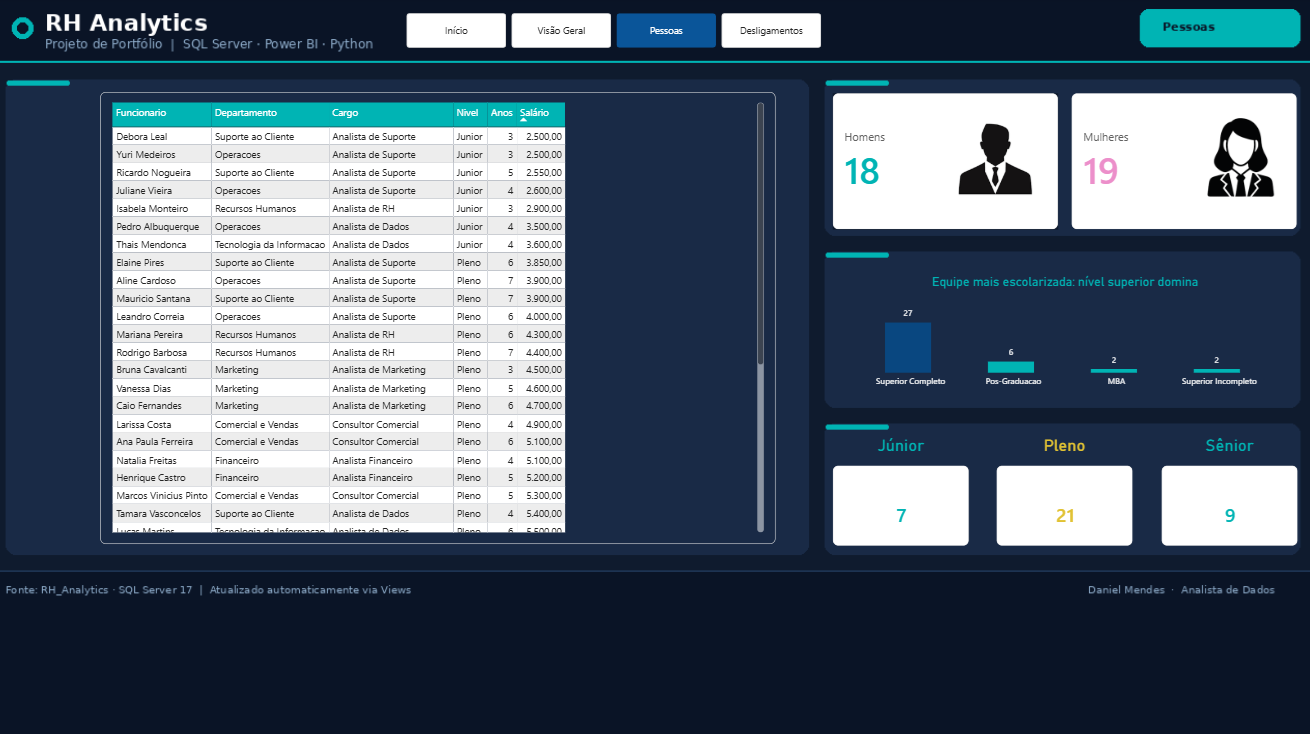

What the dashboard file says about the page in this screenshot:
{"tool":"powerbi","page":{"name":"Pessoas","canvas":[1920,1080],"ordinal":2},"visuals":[{"type":"pageNavigator","box":[605.1,22.6,600,50],"z":0},{"type":"tableEx","fields":{"Values":["vw_Funcionarios_Ativos.Funcionario","vw_Funcionarios_Ativos.Departamento","vw_Funcionarios_Ativos.Cargo","vw_Funcionarios_Ativos.Nivel","Sum(vw_Funcionarios_Ativos.Anos_Empresa)","Sum(vw_Funcionarios_Ativos.salario)"]},"box":[160.5,137.9,977.7,654.5],"z":1000},{"type":"cardVisual","fields":{"Data":["CountNonNull(vw_Funcionarios_Ativos.Funcionario)"]},"box":[1221.5,139.1,326.2,197.3],"z":2000},{"type":"cardVisual","fields":{"Data":["CountNonNull(vw_Funcionarios_Ativos.Funcionario)"]},"box":[1568,139.1,326.2,197.3],"z":3000},{"type":"image","box":[1385.9,154.3,141.6,164.4],"z":4000},{"type":"image","box":[1755.1,154.3,113.8,156.8],"z":5000},{"type":"clusteredColumnChart","title":"Equipe mais escolarizada: nível superior domina","fields":{"Category":["vw_Funcionarios_Ativos.escolaridade"],"Y":["CountNonNull(vw_Funcionarios_Ativos.Funcionario)"]},"box":[1221.5,386.9,672.7,197.3],"z":6000},{"type":"cardVisual","title":"Júnior","fields":{"Data":["CountNonNull(vw_Funcionarios_Ativos.Funcionario)"]},"box":[1221.5,634.8,197.3,159.3],"z":8000},{"type":"cardVisual","title":"Sênior","fields":{"Data":["CountNonNull(vw_Funcionarios_Ativos.Funcionario)"]},"box":[1697,634.8,197.3,159.3],"z":9000},{"type":"cardVisual","title":"Pleno","fields":{"Data":["CountNonNull(vw_Funcionarios_Ativos.Funcionario)"]},"box":[1459.2,634.8,197.3,159.3],"z":10000}]}

Visuals, with their boxes in screenshot pixels (x1, y1, x2, y2), scaled from the page's 1920x1080 canvas onto the 1310x734 screenshot:
pageNavigator: <box>413,15,822,49</box>
tableEx - vw_Funcionarios_Ativos.Funcionario x vw_Funcionarios_Ativos.Departamento: <box>110,94,777,539</box>
cardVisual - CountNonNull(vw_Funcionarios_Ativos.Funcionario): <box>833,95,1056,229</box>
cardVisual - CountNonNull(vw_Funcionarios_Ativos.Funcionario): <box>1070,95,1292,229</box>
image: <box>946,105,1042,217</box>
image: <box>1197,105,1275,211</box>
"Equipe mais escolarizada: nível superior domina" clusteredColumnChart: <box>833,263,1292,397</box>
"Júnior" cardVisual: <box>833,431,968,540</box>
"Sênior" cardVisual: <box>1158,431,1292,540</box>
"Pleno" cardVisual: <box>996,431,1130,540</box>
